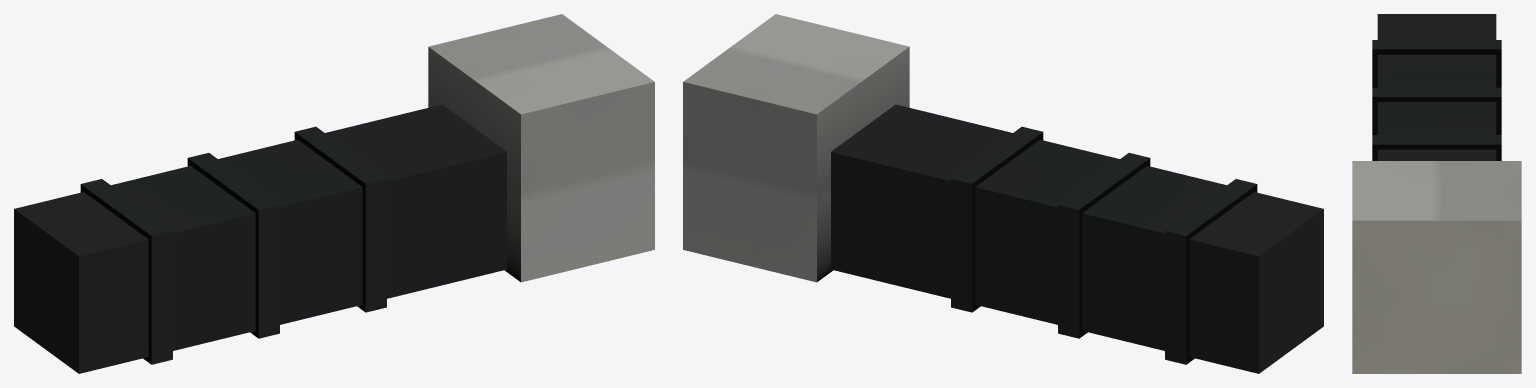
The model's file is flashlight.glb.
The picture shows the model from 3 angles, left to right: view 1: azimuth 30°, elevation 25°; view 2: azimuth 150°, elevation 25°; view 3: azimuth 270°, elevation 25°; orthographic projection. The views are drawn at different scales.
Parts seen in each view (by area): view 1: flashlight; view 2: flashlight; view 3: flashlight.
Boxes of the visible parts, x1,y1,x2,y2 form: flashlight: (14,14,654,373); flashlight: (683,14,1323,373); flashlight: (1352,14,1521,373).
Bounding box in the file's own units: 0.21 × 0.061 × 0.06.
Materials: 3 (3 with a texture image).
